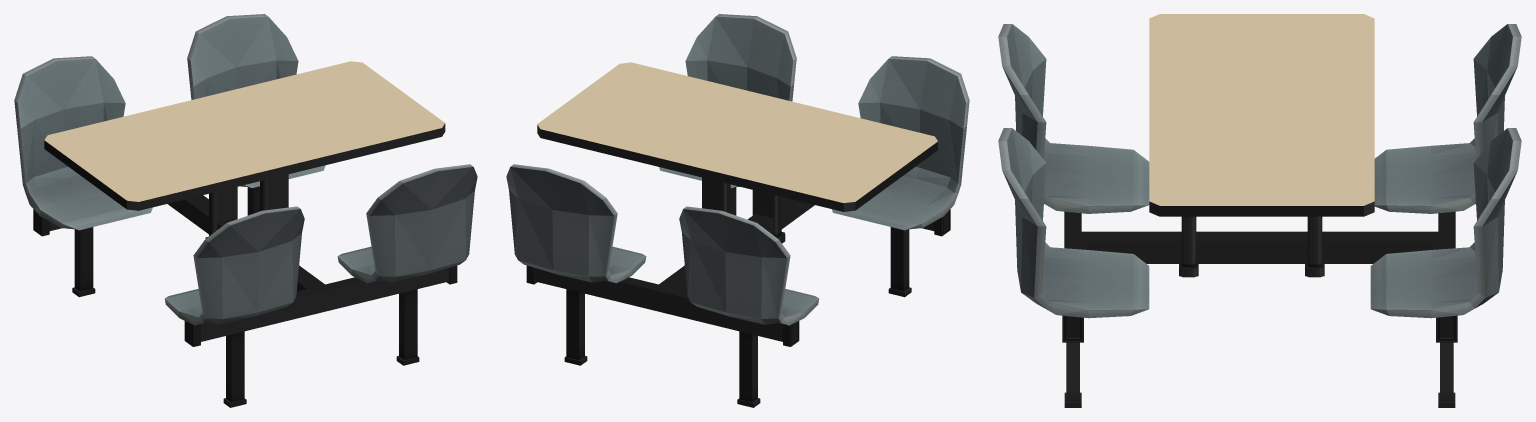
Rendered from canteen_table_01.obj.
The picture shows the model from 3 angles, left to right: view 1: azimuth 30°, elevation 25°; view 2: azimuth 150°, elevation 25°; view 3: azimuth 270°, elevation 25°; orthographic projection. The views are drawn at different scales.
Bounding box in the file's own units: 433 × 276 × 499.
